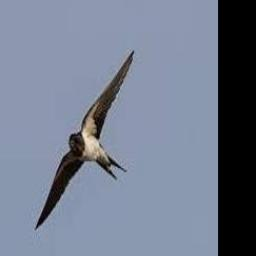Swallow: (35, 49, 136, 232)
